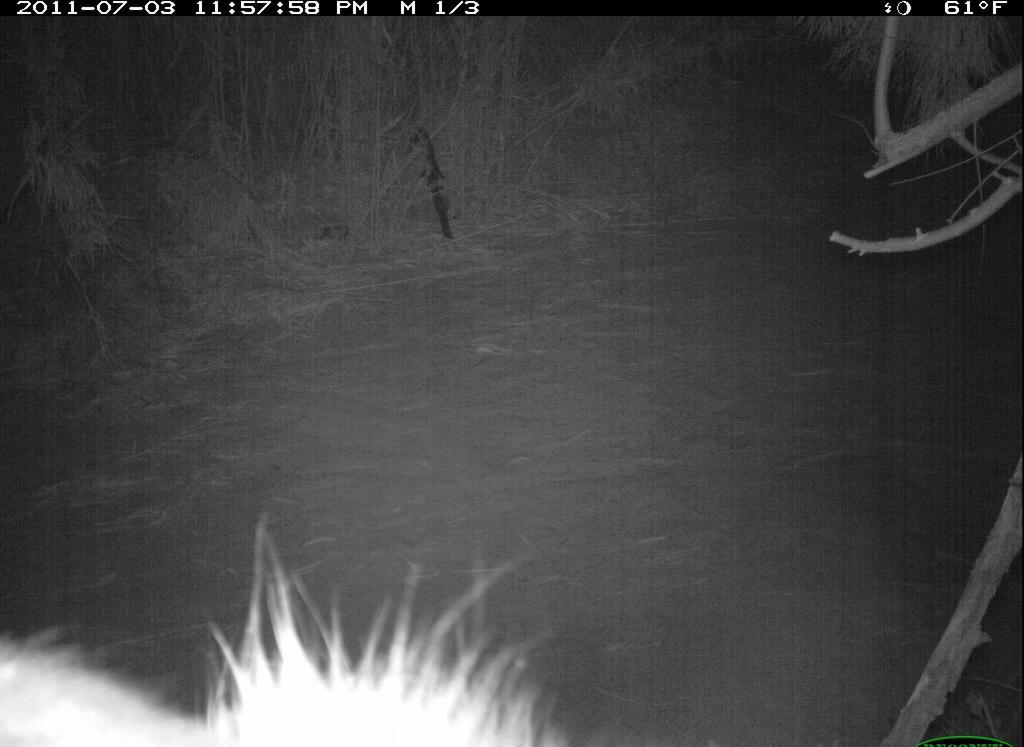raccoon: (1, 513, 578, 747)
